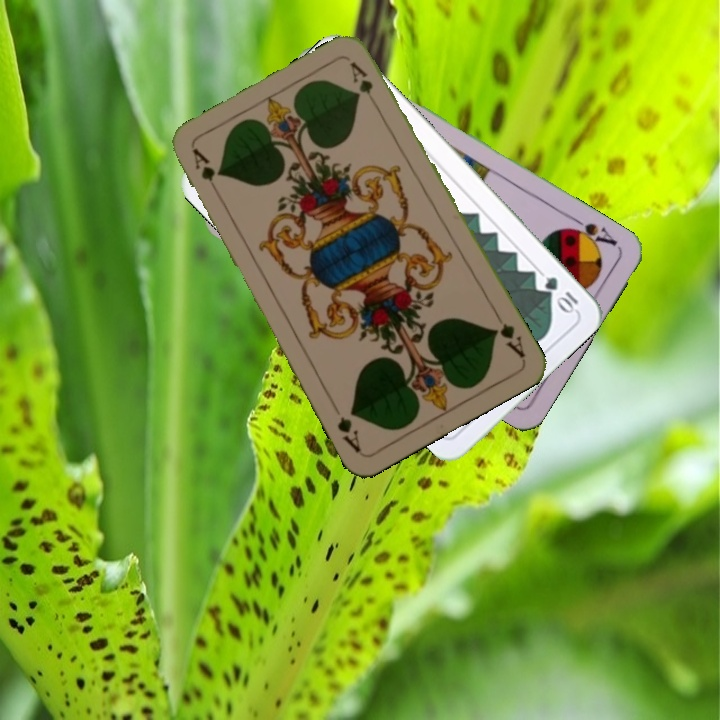G10: (540, 272, 581, 316)
GA: (489, 309, 528, 361), (188, 144, 224, 200)
SA: (562, 212, 620, 252)
